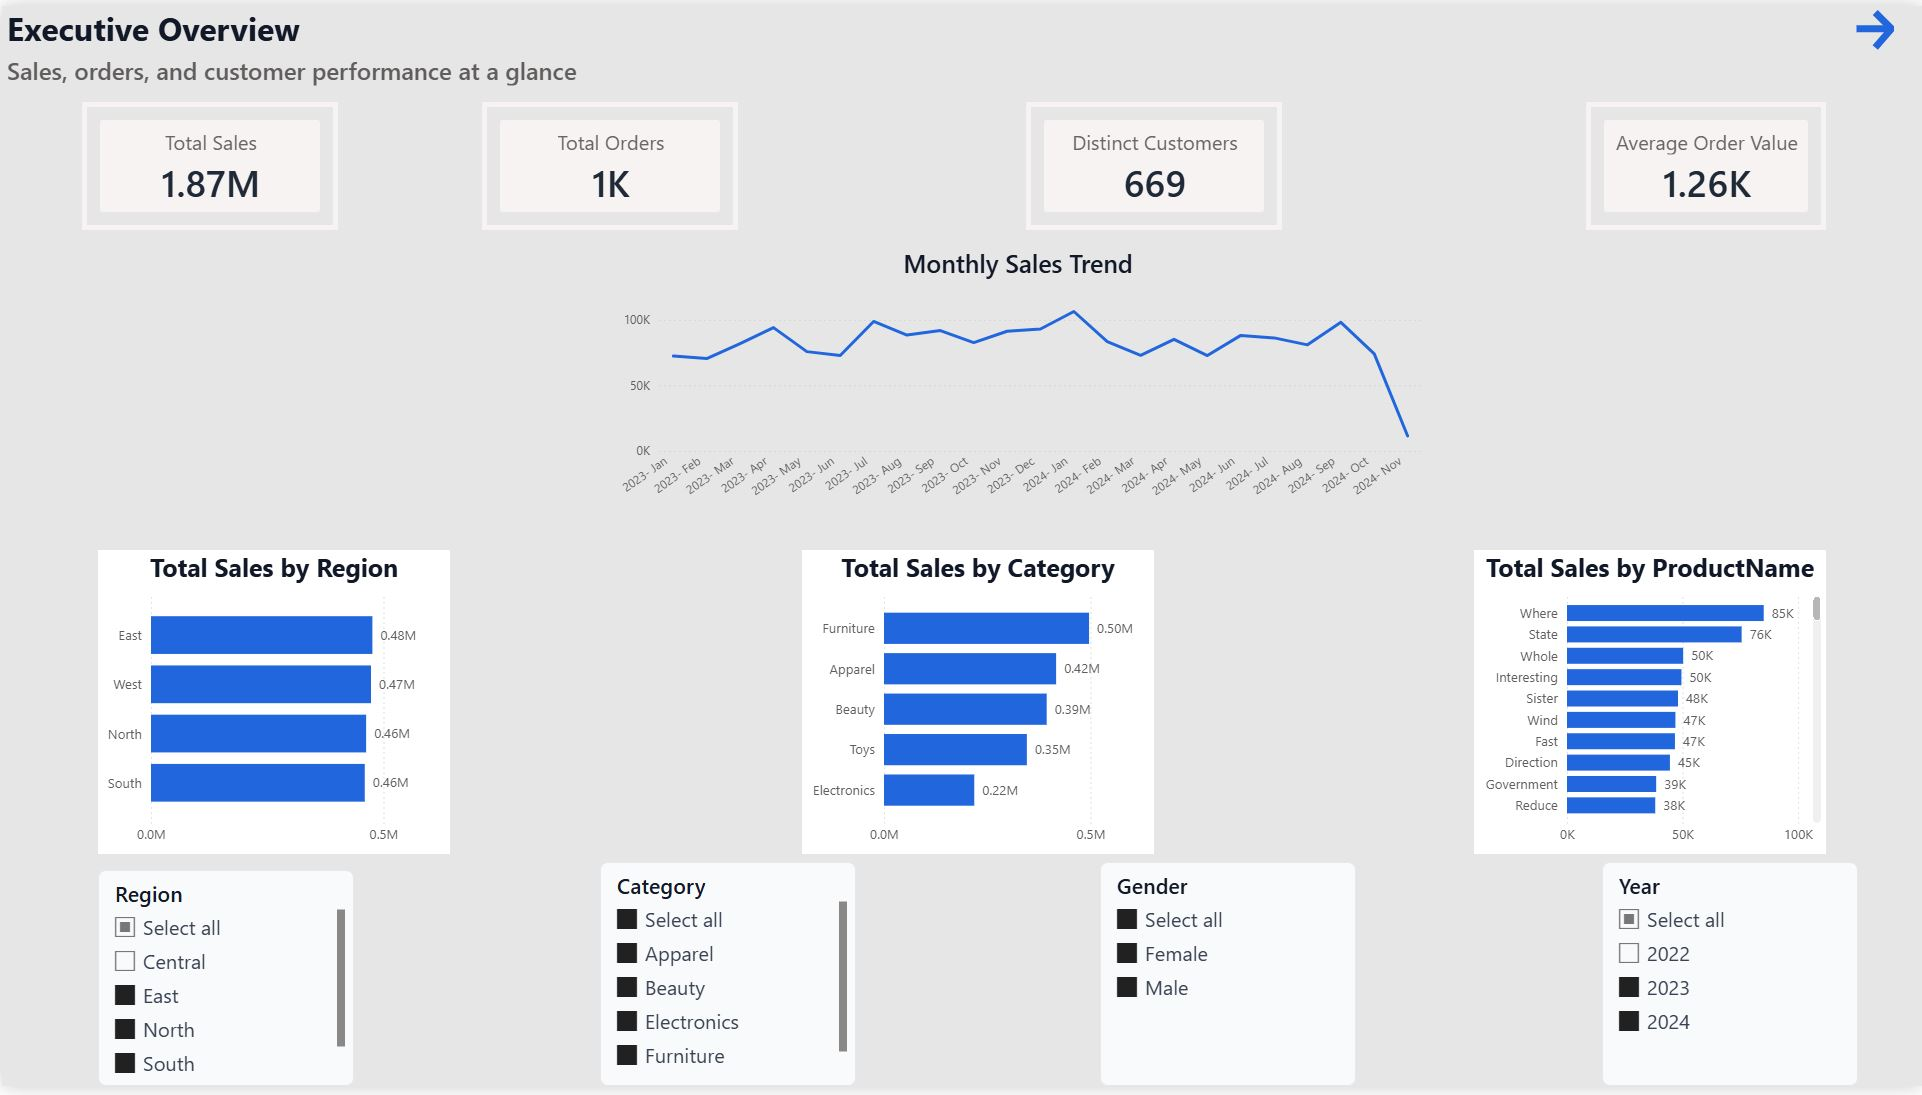

This screenshot's page, from the dashboard's own definition file:
{"tool":"powerbi","page":{"name":"Executive Dashboard","canvas":[1920,1080],"ordinal":0},"visuals":[{"type":"cardVisual","fields":{"Data":["Measures (2).Total Sales"]},"box":[80,96,256,128],"z":0},{"type":"cardVisual","fields":{"Data":["Measures (2).Total Orders"]},"box":[480,96,256,128],"z":1000},{"type":"cardVisual","fields":{"Data":["Measures (2).Distinct Customers"]},"box":[1024,96,256,128],"z":2000},{"type":"cardVisual","fields":{"Data":["Measures (2).Average Order Value"]},"box":[1584,96,240,128],"z":3000},{"type":"lineChart","title":"Monthly Sales Trend","fields":{"Category":["Date.Year-Month"],"Y":["Measures (2).Total Sales"]},"box":[608,240,816,272],"z":4000},{"type":"clusteredBarChart","fields":{"Category":["Customers.Region"],"Y":["Measures (2).Total Sales"]},"box":[96,544,352,304],"z":5000},{"type":"clusteredBarChart","fields":{"Category":["Products.Category"],"Y":["Measures (2).Total Sales"]},"box":[800,544,352,304],"z":6000},{"type":"clusteredBarChart","fields":{"Category":["Products.ProductName"],"Y":["Measures (2).Total Sales"]},"box":[1472,544,352,304],"z":7000},{"type":"slicer","fields":{"Values":["Customers.Region"]},"box":[96,864,256,216],"z":8000},{"type":"slicer","fields":{"Values":["Products.Category"]},"box":[597.3,856,256,224],"z":9000},{"type":"slicer","fields":{"Values":["Customers.Gender"]},"box":[1098.7,856,256,224],"z":10000},{"type":"slicer","fields":{"Values":["Date.Year"]},"box":[1600,856,256,224],"z":11000},{"type":"textbox","title":"Executive Overview","box":[0,0,864,80],"z":12000},{"type":"actionButton","box":[1824,0,96,48],"z":12001}]}

Visuals, with their boxes in screenshot pixels (x1, y1, x2, y2), scaled from the page's 1920x1080 canvas onto the 1922x1095 screenshot:
cardVisual - Measures (2).Total Sales: [left=80, top=97, right=336, bottom=227]
cardVisual - Measures (2).Total Orders: [left=480, top=97, right=737, bottom=227]
cardVisual - Measures (2).Distinct Customers: [left=1025, top=97, right=1281, bottom=227]
cardVisual - Measures (2).Average Order Value: [left=1586, top=97, right=1826, bottom=227]
"Monthly Sales Trend" lineChart: [left=609, top=243, right=1425, bottom=519]
clusteredBarChart - Customers.Region x Measures (2).Total Sales: [left=96, top=552, right=448, bottom=860]
clusteredBarChart - Products.Category x Measures (2).Total Sales: [left=801, top=552, right=1153, bottom=860]
clusteredBarChart - Products.ProductName x Measures (2).Total Sales: [left=1474, top=552, right=1826, bottom=860]
slicer - Customers.Region: [left=96, top=876, right=352, bottom=1094]
slicer - Products.Category: [left=598, top=868, right=854, bottom=1094]
slicer - Customers.Gender: [left=1100, top=868, right=1356, bottom=1094]
slicer - Date.Year: [left=1602, top=868, right=1858, bottom=1094]
"Executive Overview" textbox: [left=0, top=0, right=865, bottom=81]
actionButton: [left=1826, top=0, right=1921, bottom=49]
